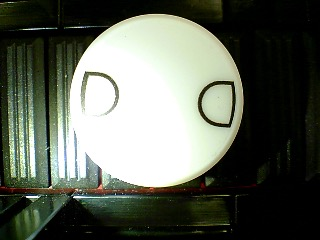MIPO2: (68, 13, 244, 188)
